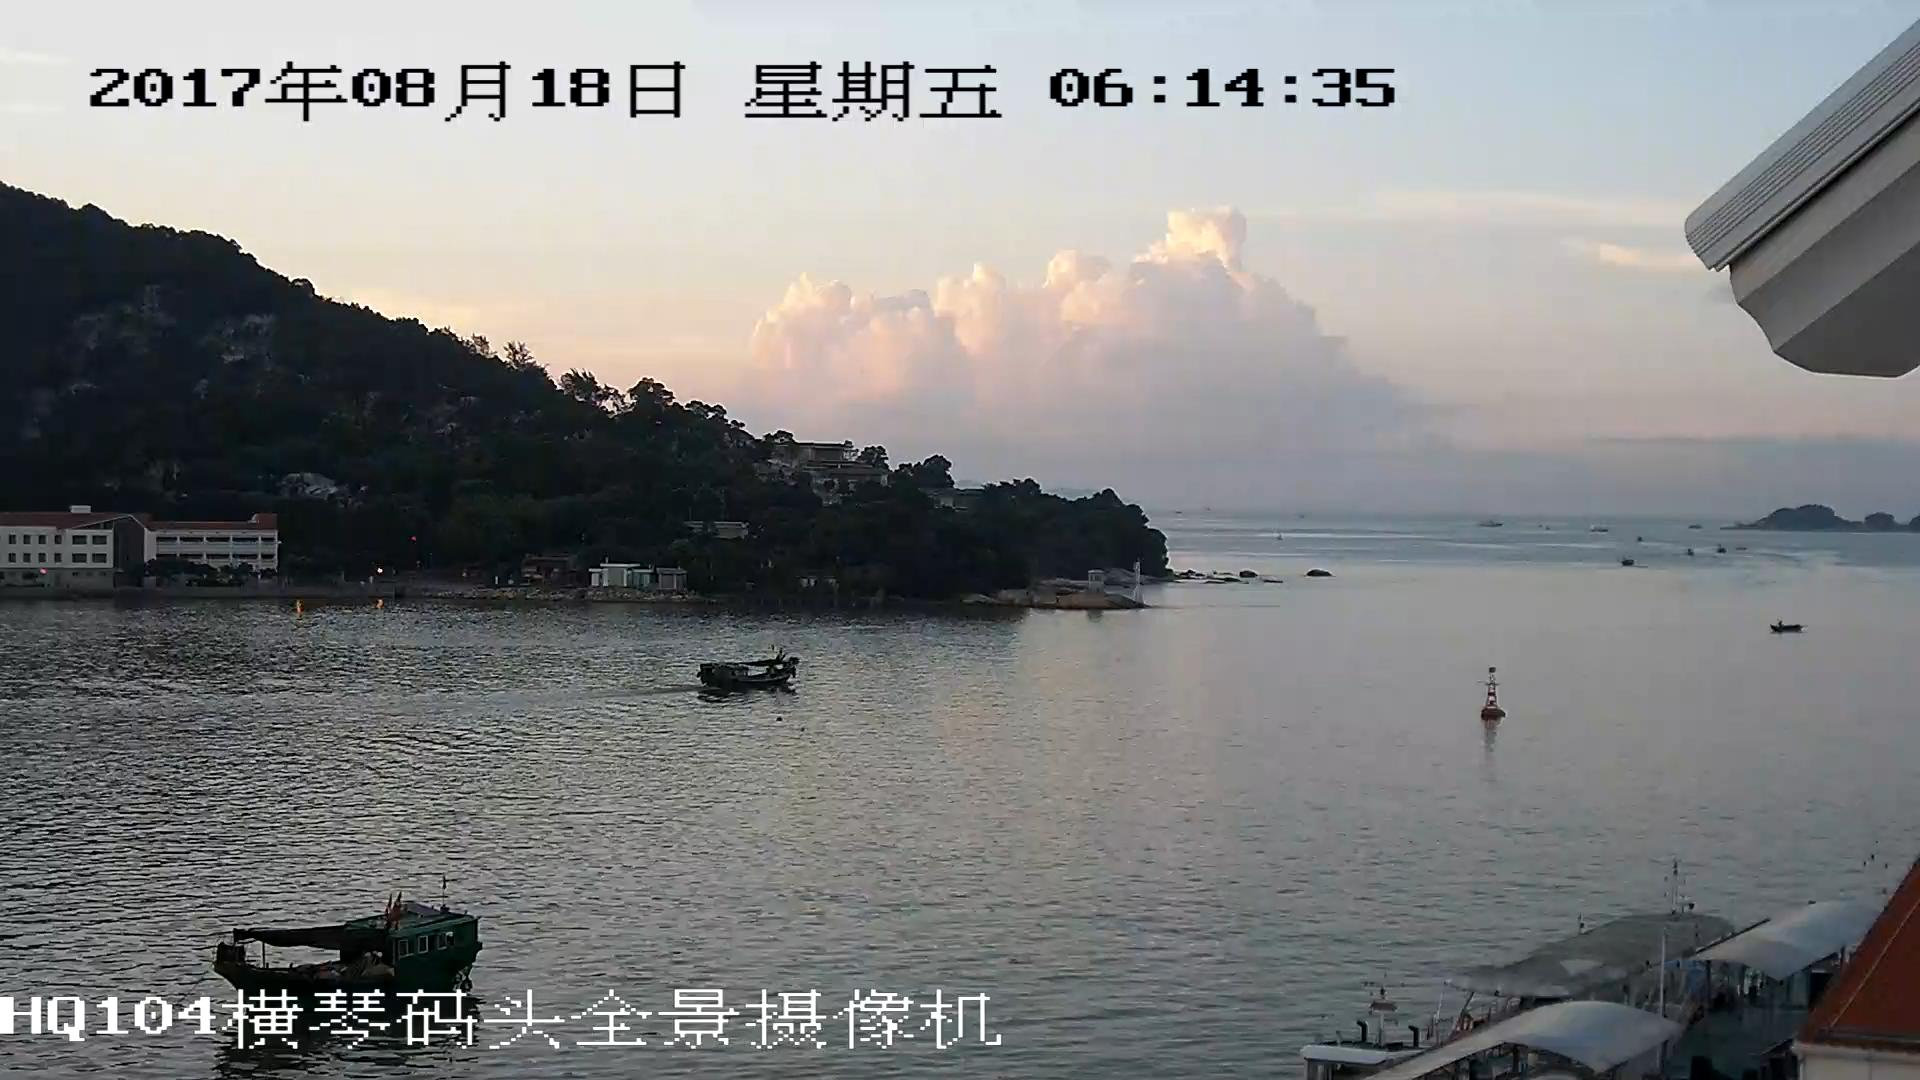fishing boat: (211, 908, 479, 986), (697, 654, 804, 690)
